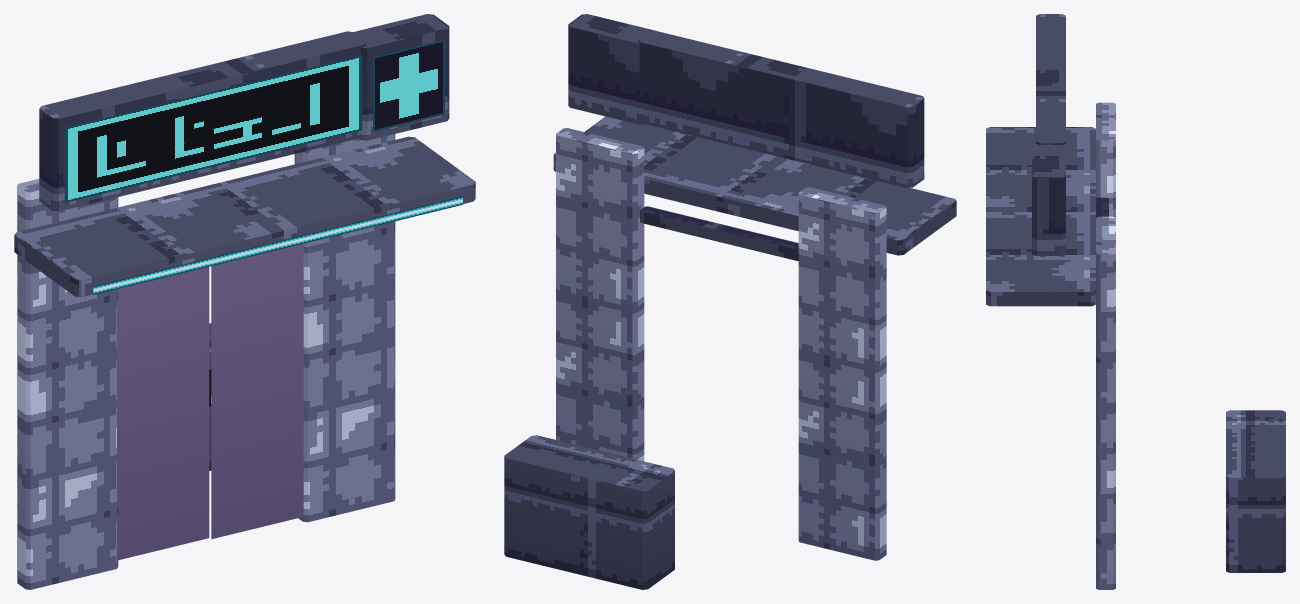
Rendered from cysign.clinic.glb.
3 views of the same model, side by side, from view 1: azimuth 30°, elevation 25°; view 2: azimuth 150°, elevation 25°; view 3: azimuth 270°, elevation 25° (orthographic). The views are drawn at different scales.
Visible parts, largest first — view 1: kit_front, kit_card_cards; view 2: kit_front; view 3: kit_front.
Part boxes in pixels (box(x1,y1,x2,y2)): kit_front: box(14, 14, 475, 589); kit_card_cards: box(64, 39, 462, 560); kit_front: box(504, 14, 956, 589); kit_front: box(986, 14, 1285, 589).
Bounding box in the file's own units: 3.91 × 4.64 × 3.01.
8 materials, 7 textured.
